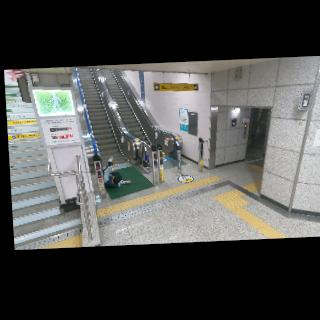anomaly: (101, 155, 133, 191)
